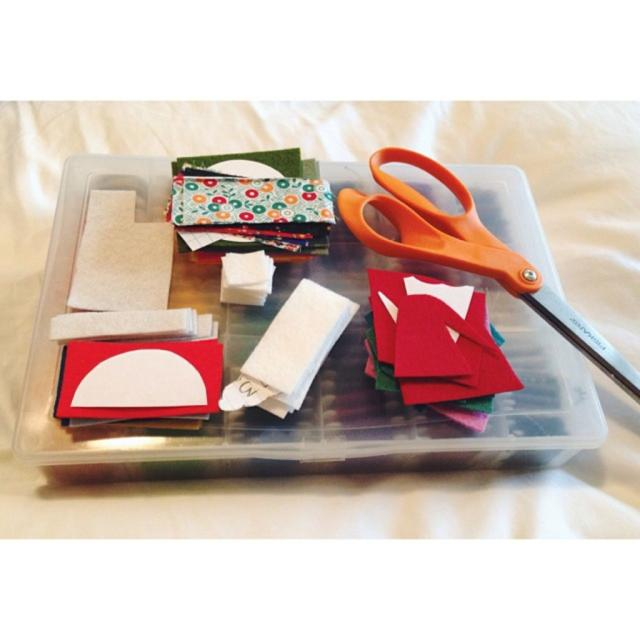scissors: (336, 145, 640, 427)
